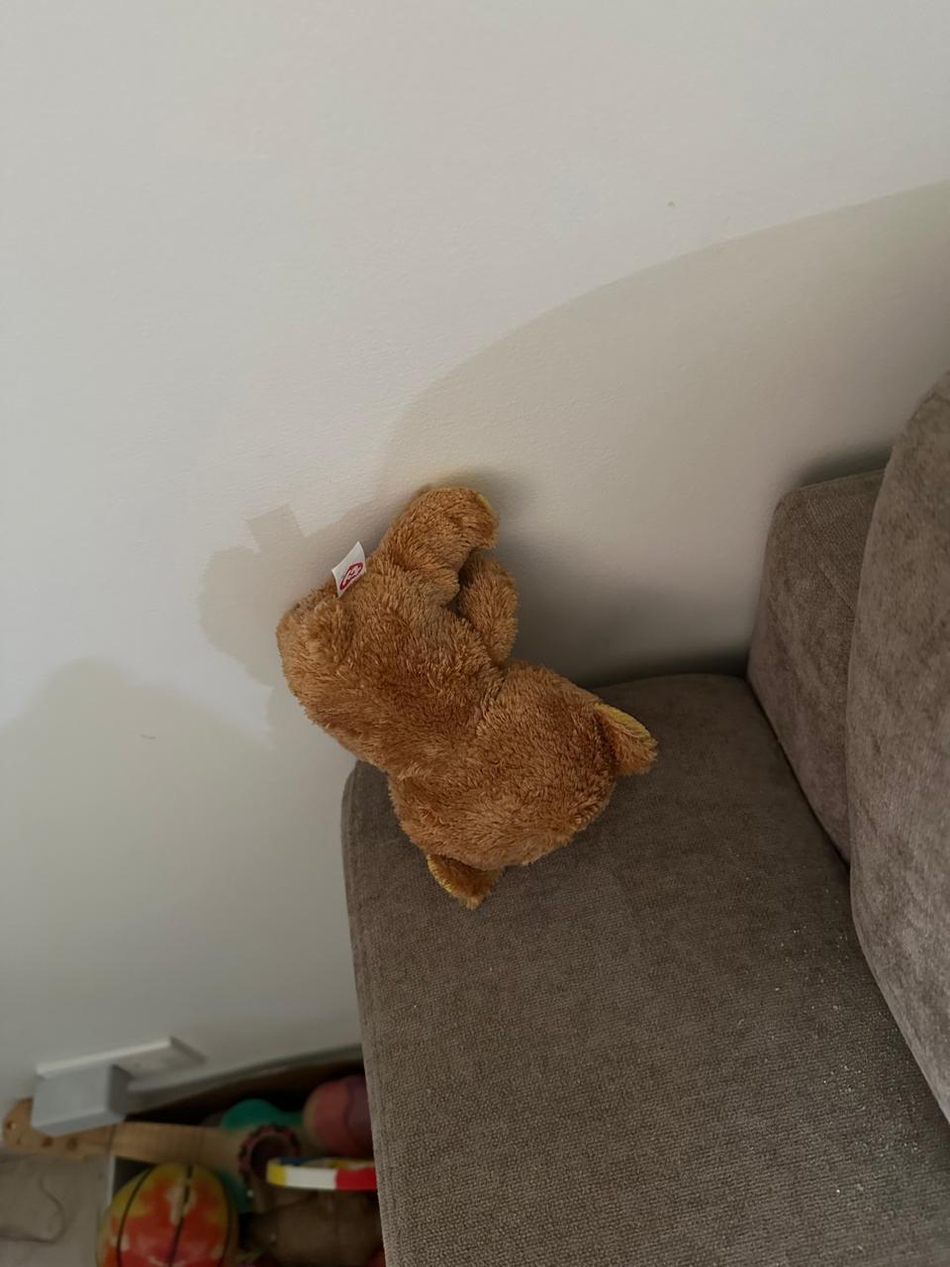peluche_sebastian: (275, 480, 658, 911)
